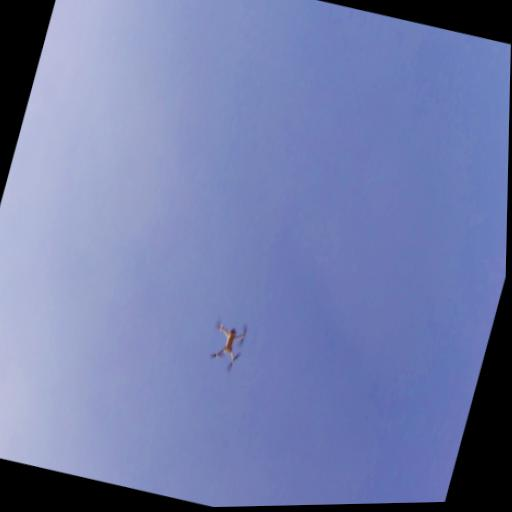drones: (201, 313, 254, 378)
